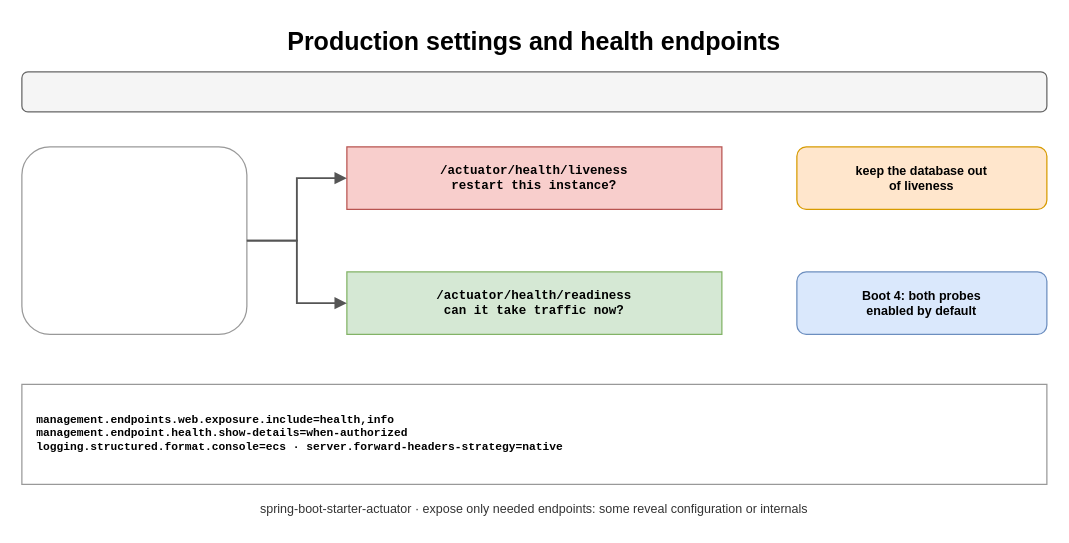
Image size: 1069x543. Some labels were removed from this diagram. Each missing label, with the centre of its shape:
platform (orchestrator / load balancer): the point at 134,240
The platform asks two questions; Actuator health groups answer them: the point at 534,91
